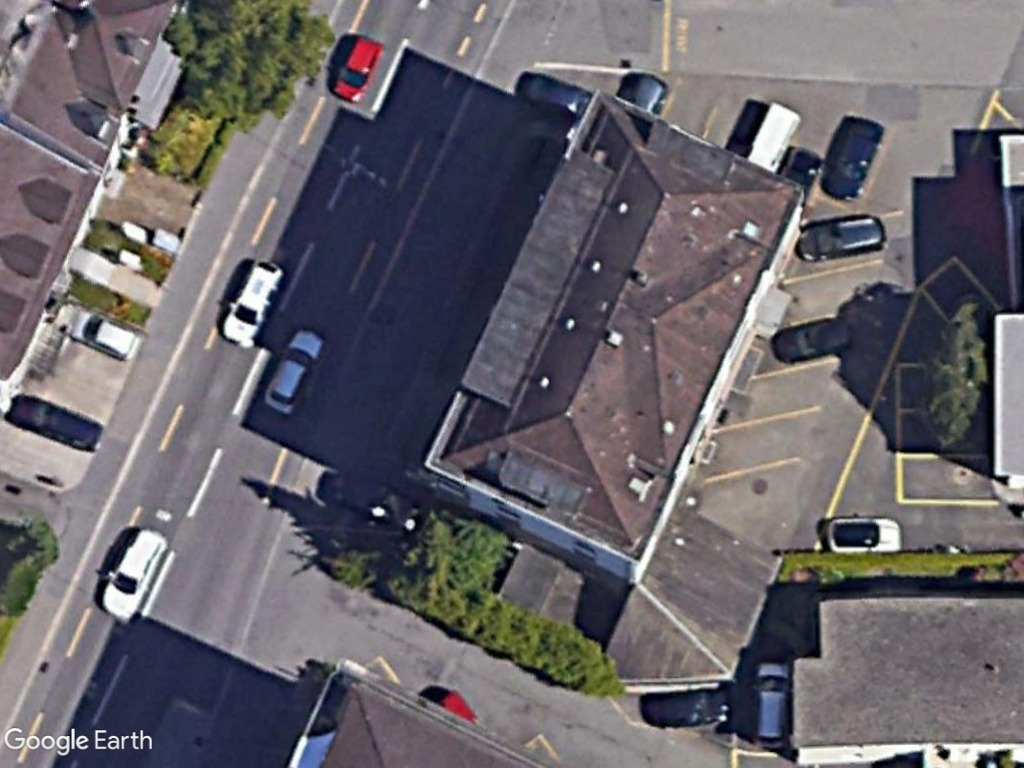car: (98, 523, 171, 622), (219, 255, 285, 349), (262, 324, 325, 416), (331, 31, 383, 103), (753, 660, 793, 751)
